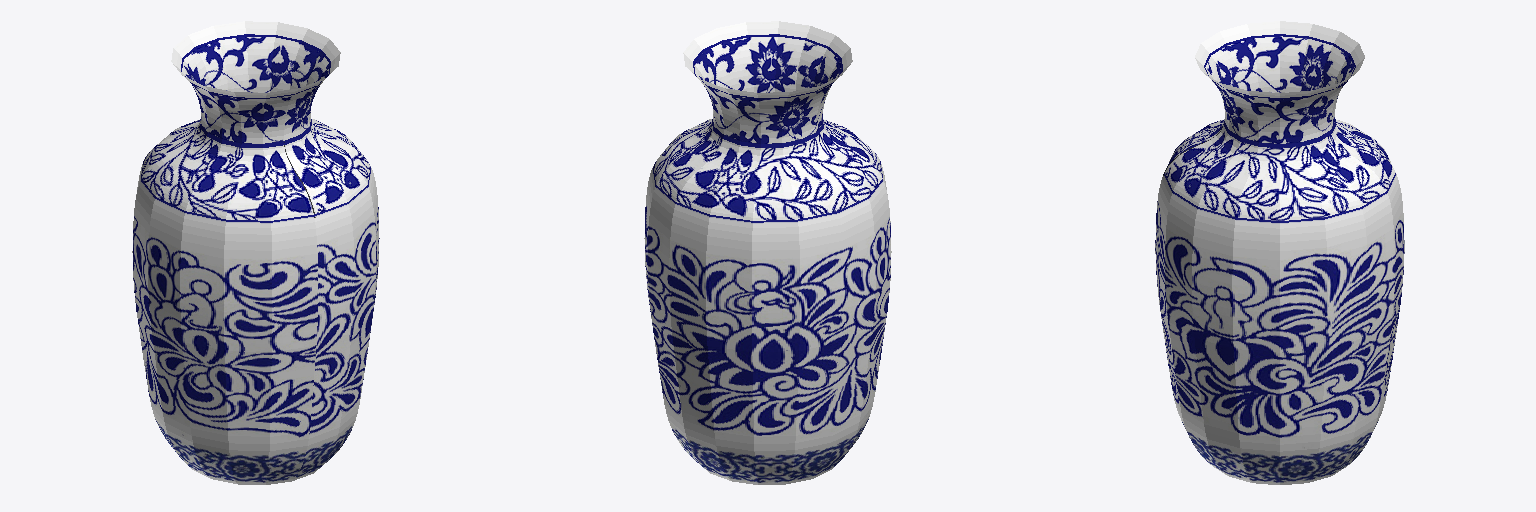
3 views of the same model, side by side, from view 1: azimuth 30°, elevation 25°; view 2: azimuth 150°, elevation 25°; view 3: azimuth 270°, elevation 25° (orthographic).
Parts seen in each view (by area): view 1: Line02; view 2: Line02; view 3: Line02.
Boxes of the visible parts, x1,y1,x2,y2 form: Line02: [132, 21, 379, 484]; Line02: [644, 21, 891, 484]; Line02: [1155, 21, 1404, 484].
Size of the model in its own units: 777 by 1369 by 777.
Materials: 1 (1 with a texture image).